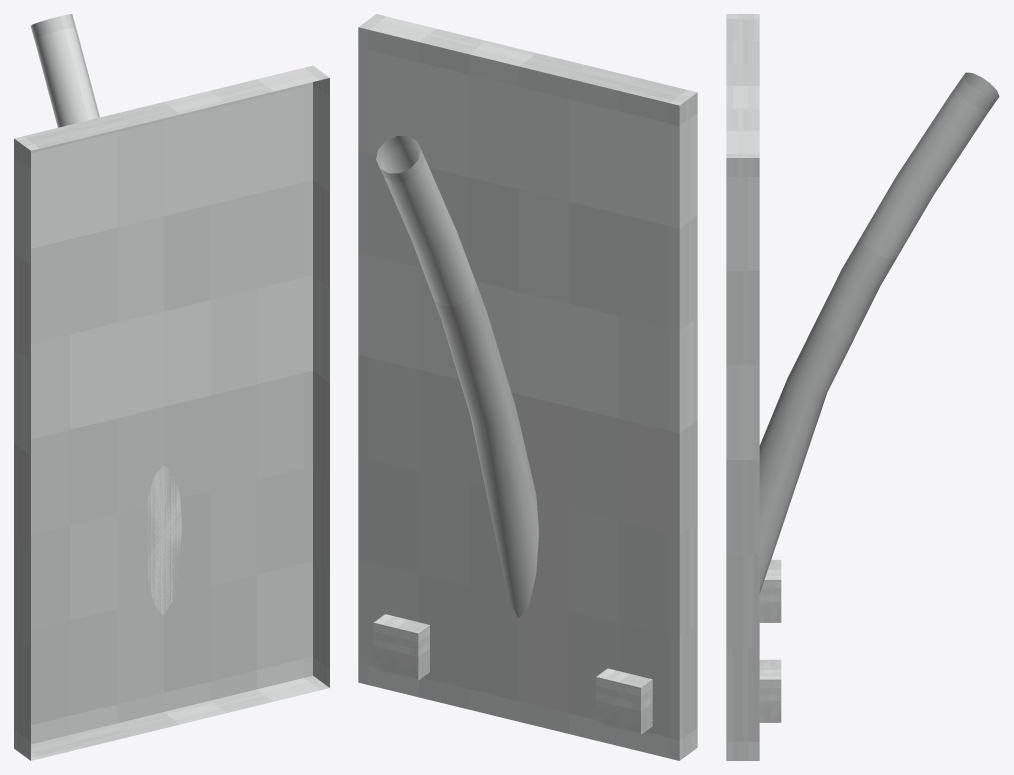
Rendered from luminairearm_laupsweep10ft_c1_wall.obj.
The picture shows the model from 3 angles, left to right: view 1: azimuth 30°, elevation 25°; view 2: azimuth 150°, elevation 25°; view 3: azimuth 270°, elevation 25°; orthographic projection. The views are drawn at different scales.
Visible parts, largest first — view 1: luminairearm_laupsweep10ft_c1_wall; view 2: luminairearm_laupsweep10ft_c1_wall; view 3: luminairearm_laupsweep10ft_c1_wall.
Boxes of the visible parts, x1=… form: luminairearm_laupsweep10ft_c1_wall: x1=14, y1=14, x2=329, y2=760; luminairearm_laupsweep10ft_c1_wall: x1=358, y1=14, x2=697, y2=760; luminairearm_laupsweep10ft_c1_wall: x1=726, y1=14, x2=999, y2=760.
Bounding box in the file's own units: 0.4474 × 0.8877 × 0.3582.
